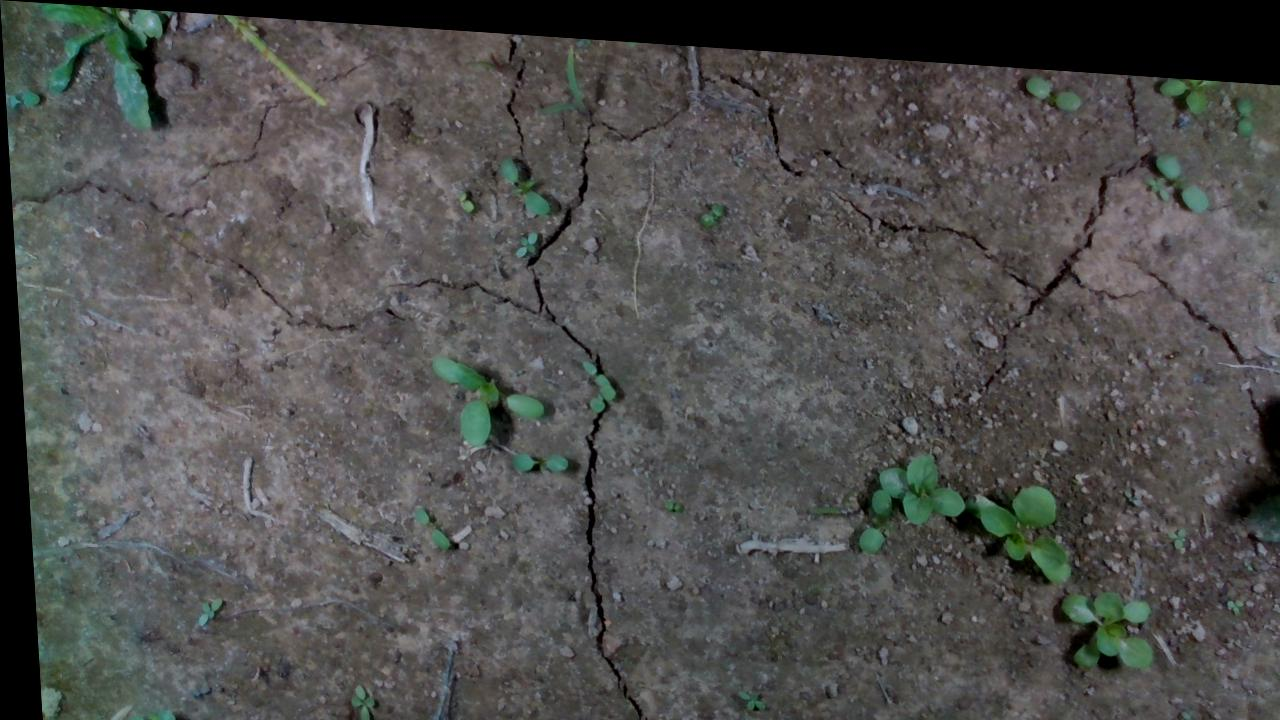weed: (1152, 136, 1205, 196), (498, 438, 575, 471), (401, 497, 448, 548), (690, 185, 741, 229), (1024, 61, 1083, 96), (184, 592, 234, 624), (511, 218, 541, 258), (721, 674, 765, 696), (449, 179, 477, 208), (1233, 78, 1252, 119), (652, 482, 681, 507)
